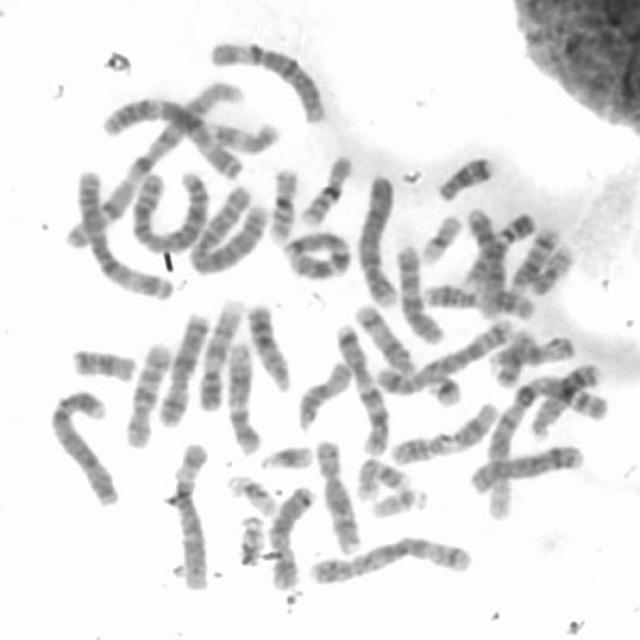A1: (59, 74, 248, 253), (481, 362, 610, 525)
A2: (183, 177, 270, 277), (124, 162, 212, 255)
A3: (69, 162, 176, 302), (100, 91, 244, 180)
B4: (45, 384, 124, 508), (352, 169, 400, 308)
B5: (372, 313, 518, 398), (306, 532, 476, 586)
C10: (119, 336, 174, 450), (390, 239, 447, 345)
C11: (383, 397, 502, 466), (418, 279, 538, 321)
C12: (462, 203, 508, 320), (221, 337, 263, 455)
C6: (205, 35, 328, 127), (163, 437, 212, 591)
C7: (330, 318, 392, 457), (280, 225, 354, 282)
C8: (465, 438, 589, 496), (309, 433, 363, 555)
C9: (458, 206, 538, 294), (195, 294, 246, 412)
D13: (527, 357, 604, 442), (241, 296, 294, 394)
D14: (351, 298, 420, 378), (507, 224, 560, 295)
D15: (293, 356, 353, 433), (484, 331, 578, 375)
E16: (297, 151, 356, 228), (264, 163, 301, 244)
E17: (202, 115, 282, 155), (351, 456, 410, 504)
E18: (432, 148, 496, 202), (67, 342, 139, 384)
F19: (221, 468, 280, 518), (415, 209, 464, 266)
F20: (485, 326, 538, 390), (528, 239, 580, 296)
G21: (255, 440, 314, 472), (421, 366, 465, 408)
G22: (368, 484, 430, 520), (234, 510, 266, 567)
X: (152, 306, 213, 430), (264, 482, 315, 591)
